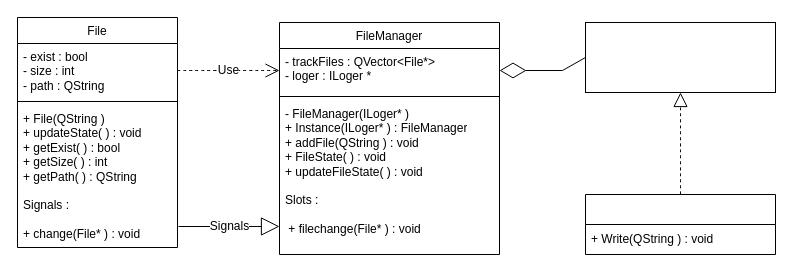
Image size: 793x275. Some labels were removed from this diagram. The shapes that lost their labels are listed below. From the top down, each one's box as (x1, y1, x2, y2) in pixels, then its label:
(584, 22, 776, 92): <<Interface>> ILoger + Write(QString ) : void
(584, 194, 776, 254): ConsoleLoger
